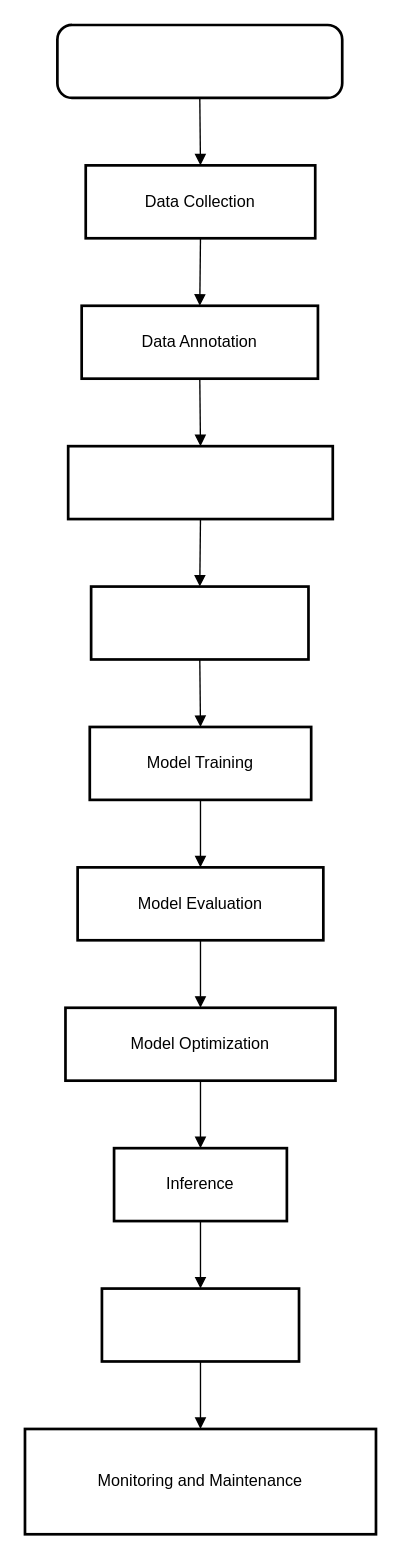
Image size: 400x1558. Some labels were removed from this diagram. Each missing label, with the centre of its shape:
"Architect for AI Structure" belongs at point (199, 61).
"Data Modeling" belongs at point (199, 622).
"Data Preprocessing" belongs at point (199, 482).
"Deployment" belongs at point (200, 1324).
